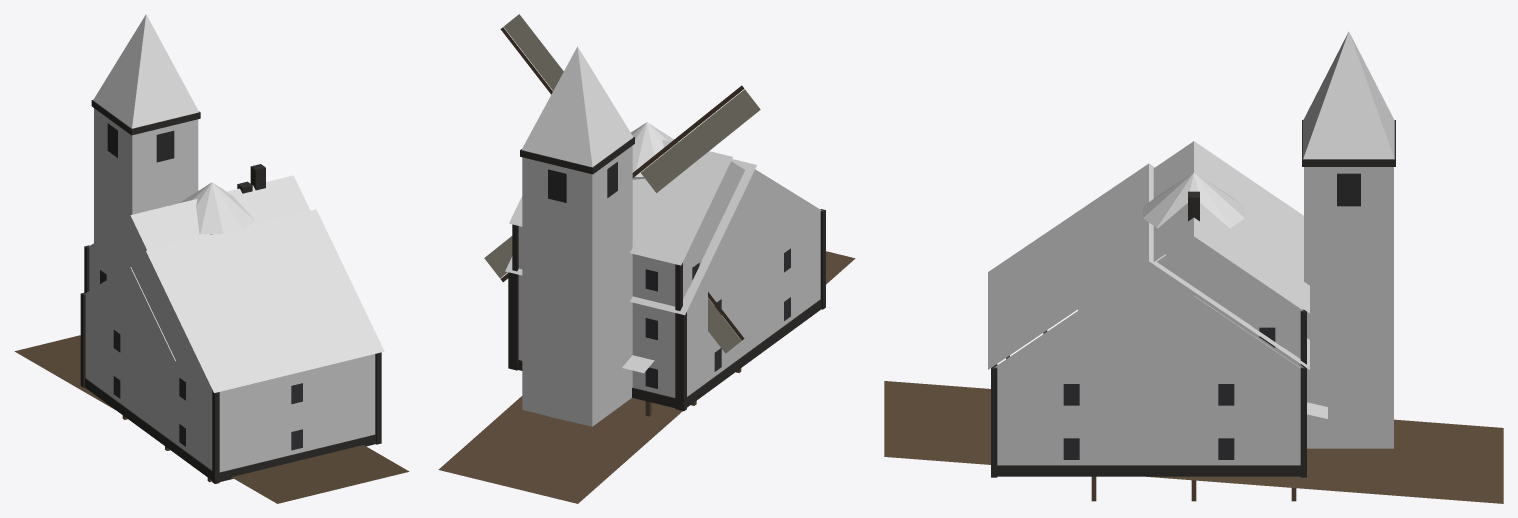
Rendered from volcanic.glb.
3 renders of one model, left to right at view 1: azimuth 30°, elevation 25°; view 2: azimuth 150°, elevation 25°; view 3: azimuth 270°, elevation 25°, orthographic. The views are drawn at different scales.
Parts seen in each view (by area): view 1: church, merchants-house, shipyard-slip, windmill; view 2: church, merchants-house, shipyard-slip, windmill; view 3: church, shipyard-slip, merchants-house, windmill.
Boxes of the visible parts, x1,y1,x2,y2 form: church: (80,14,384,483); merchants-house: (84,164,310,293); shipyard-slip: (14,335,409,503); windmill: (180,182,255,234); church: (505,46,825,426); merchants-house: (509,132,744,409); shipyard-slip: (438,251,855,503); windmill: (484,14,760,353); church: (988,31,1395,477); shipyard-slip: (884,330,1503,503); merchants-house: (1078,141,1327,418); windmill: (1143,173,1244,228).
Size of the model in its own units: 17.82 by 24.5 by 31.
